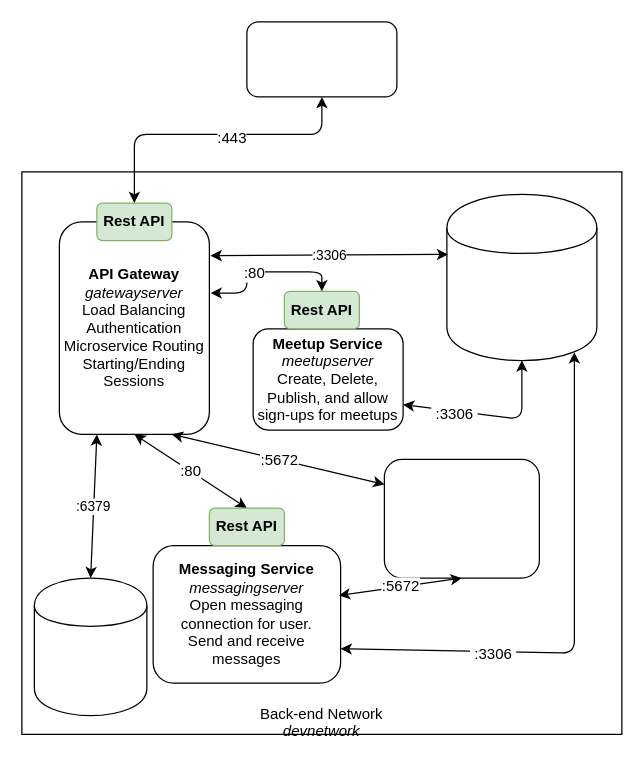
Image size: 644x766. Some labels were removed from this diagram. The shapes that lost their labels are listed below. From the top down, each one's centre as x and y in pixels, then its label:
At (x=321, y=59): "Web UI web_client".
At (x=521, y=277): "MySQL mysqlserver Persistant Storage User/Meetup Information".
At (x=461, y=518): "RabbitMQService messagingserver Notify gateway when new messages are sent".
At (x=90, y=646): "Redis redisserver Session Store".
